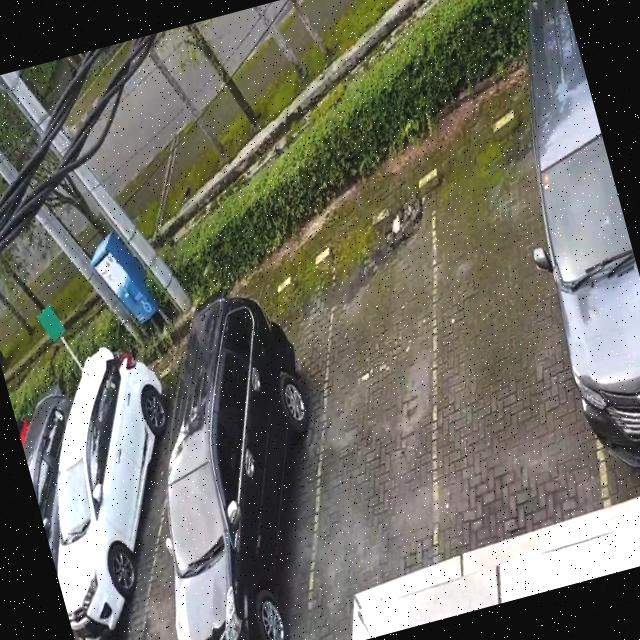empty: (378, 145, 622, 542), (268, 223, 474, 584)
occupied: (158, 278, 374, 640), (16, 399, 176, 640)
